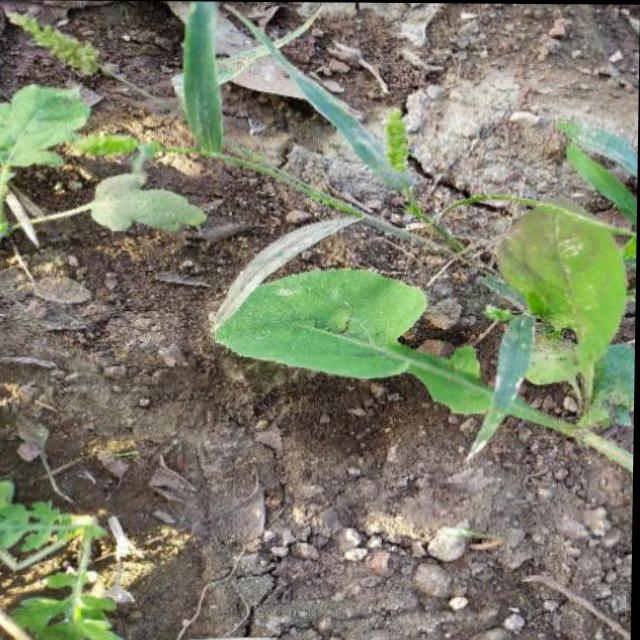weed: (197, 96, 639, 484), (0, 85, 189, 261)
